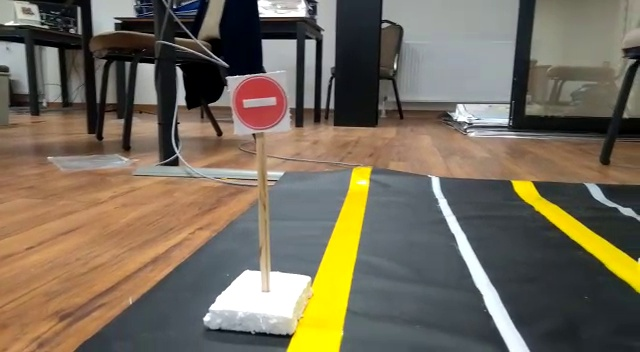girisi_olmayan_yol: (231, 68, 291, 131)
